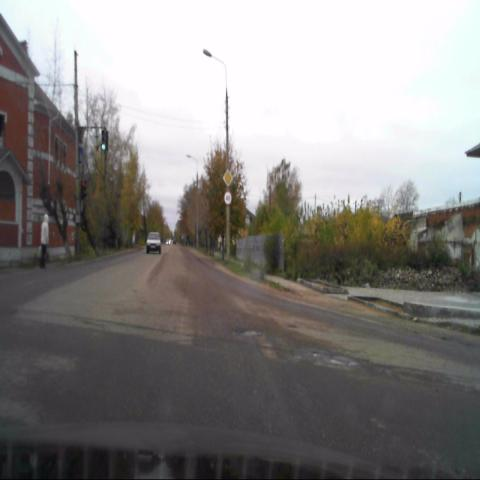2_1: (222, 168, 232, 188)
3_24: (224, 190, 232, 205)
